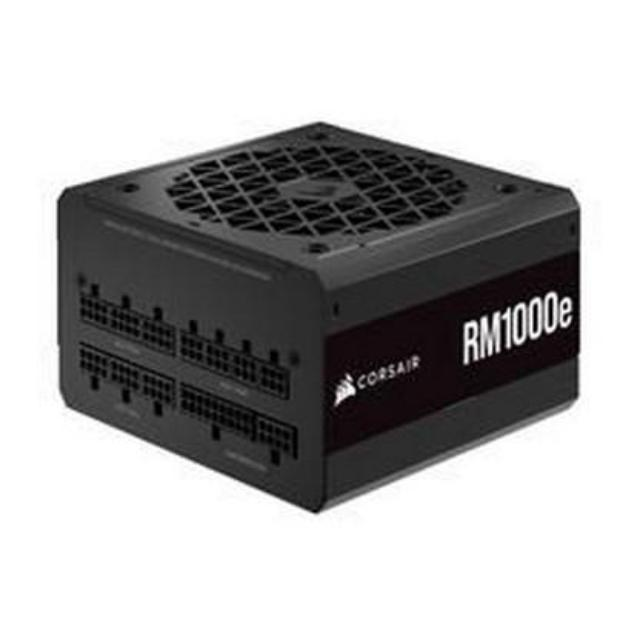PSU: (62, 110, 584, 521)
